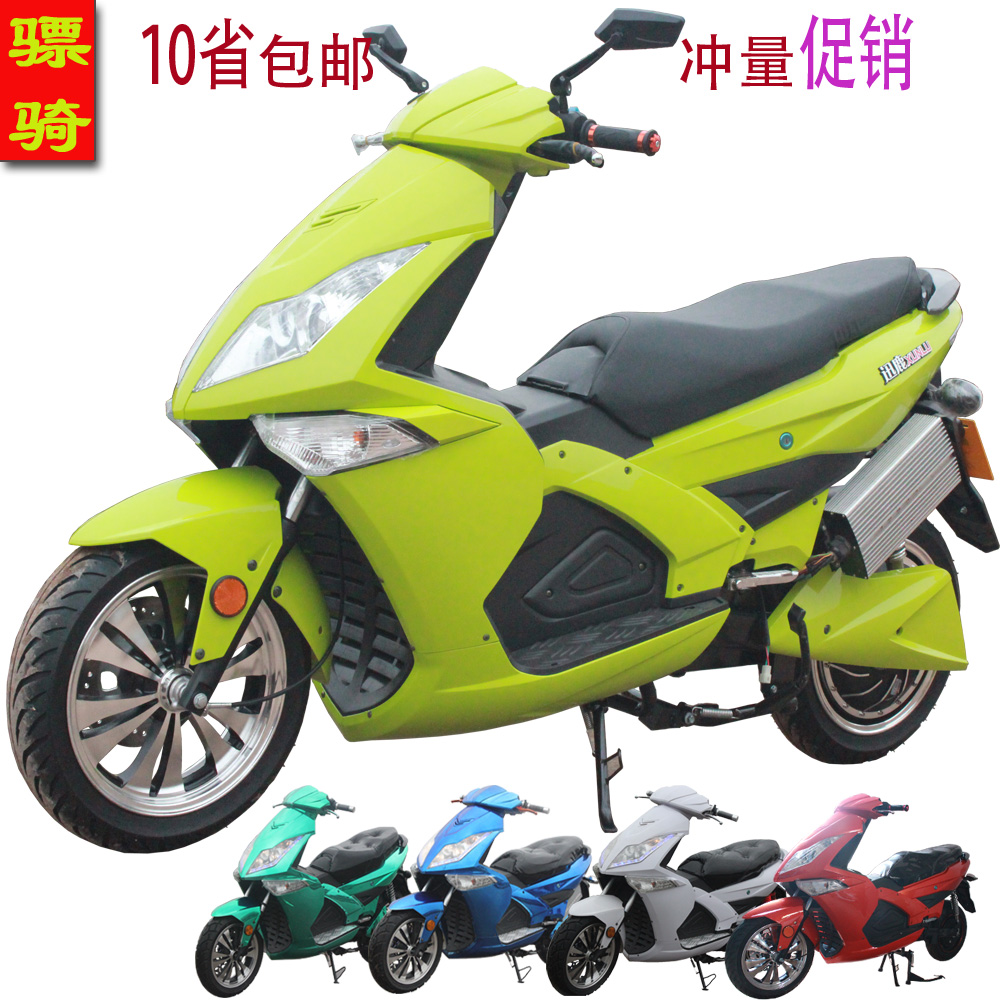电动车: (1, 1, 998, 855), (724, 789, 985, 1000), (546, 777, 783, 997), (366, 782, 593, 995), (190, 784, 404, 997)
